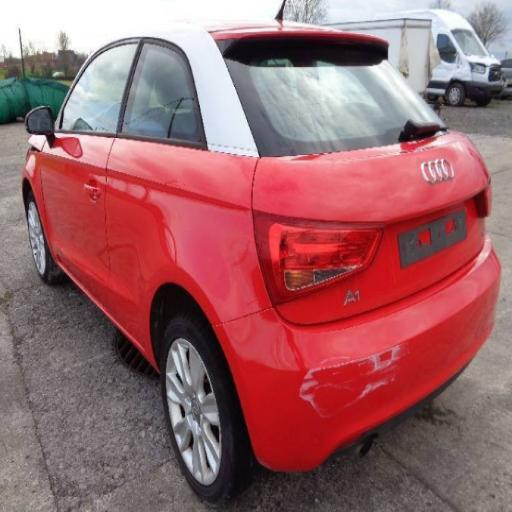scratch: (293, 345, 410, 412)
